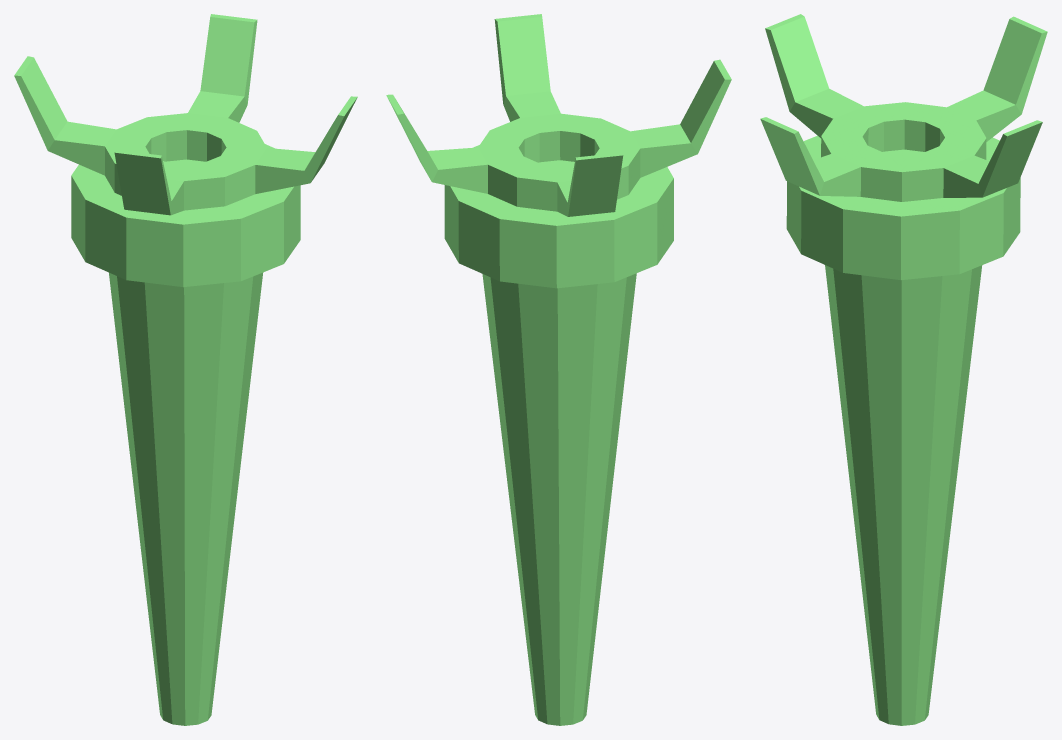
File: Hand Torch_low.fbx
3 views of the same model, side by side, from view 1: azimuth 30°, elevation 25°; view 2: azimuth 150°, elevation 25°; view 3: azimuth 270°, elevation 25° (orthographic).
Visible parts, largest first — view 1: Torch_low; view 2: Torch_low; view 3: Torch_low.
Part boxes in pixels (x1=…): Torch_low: x1=14, y1=14, x2=357, y2=725; Torch_low: x1=386, y1=14, x2=731, y2=725; Torch_low: x1=760, y1=14, x2=1047, y2=725.
Bounding box in the file's own units: 40.93 × 101 × 40.93.
